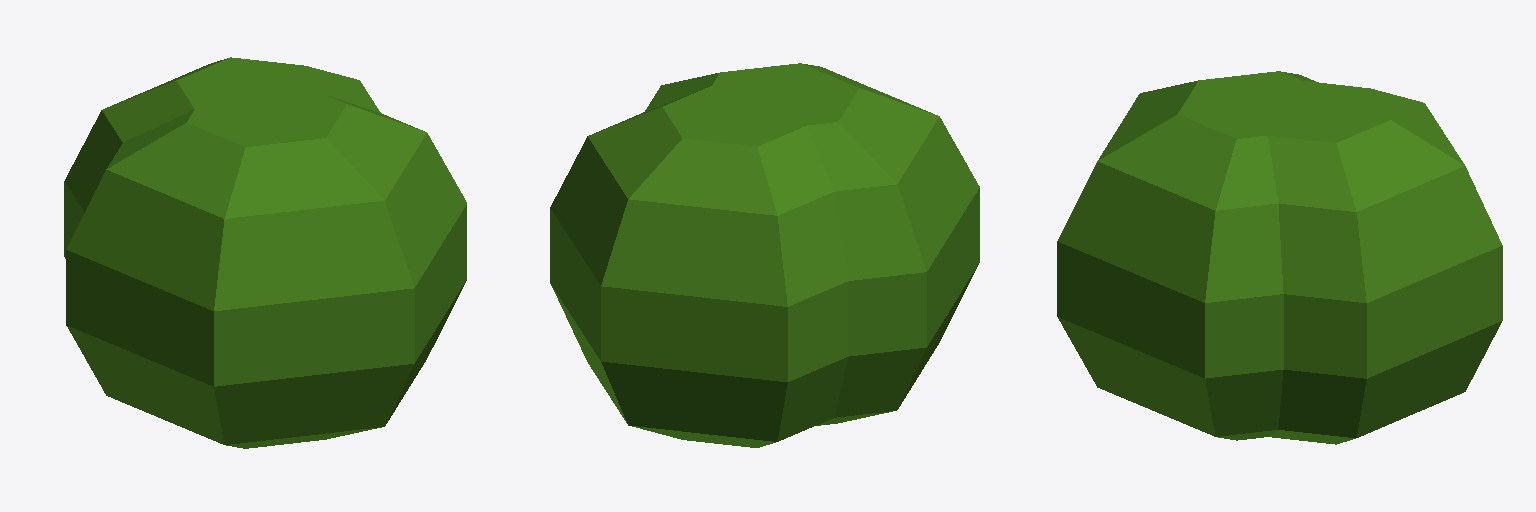
File: Prop_Bush_3.obj
3 renders of one model, left to right at view 1: azimuth 30°, elevation 25°; view 2: azimuth 150°, elevation 25°; view 3: azimuth 270°, elevation 25°, orthographic.
Parts seen in each view (by area): view 1: object1; view 2: object1; view 3: object1.
Part boxes in pixels (x1,y1,x2,y2): object1: (64, 57, 466, 448); object1: (550, 63, 979, 447); object1: (1057, 71, 1502, 444).
Bounding box in the file's own units: 0.9682 × 0.8 × 1.07.